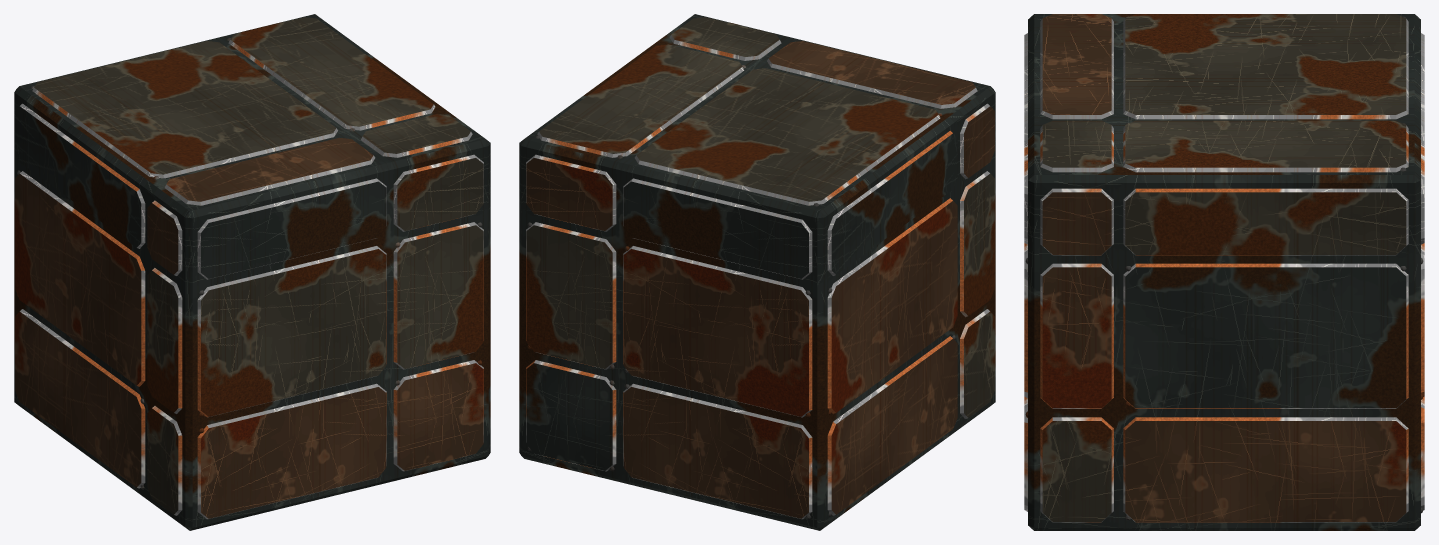
3 views of the same model, side by side, from view 1: azimuth 30°, elevation 25°; view 2: azimuth 150°, elevation 25°; view 3: azimuth 270°, elevation 25° (orthographic). The views are drawn at different scales.
Visible parts, largest first — view 1: R4B_Cube; view 2: R4B_Cube; view 3: R4B_Cube.
Boxes of the visible parts, x1,y1,x2,y2 form: R4B_Cube: (14, 14, 490, 530); R4B_Cube: (519, 14, 995, 530); R4B_Cube: (1024, 14, 1424, 530).
Bounding box in the file's own units: 0.52 × 0.52 × 0.52.
5 materials, 5 textured.
